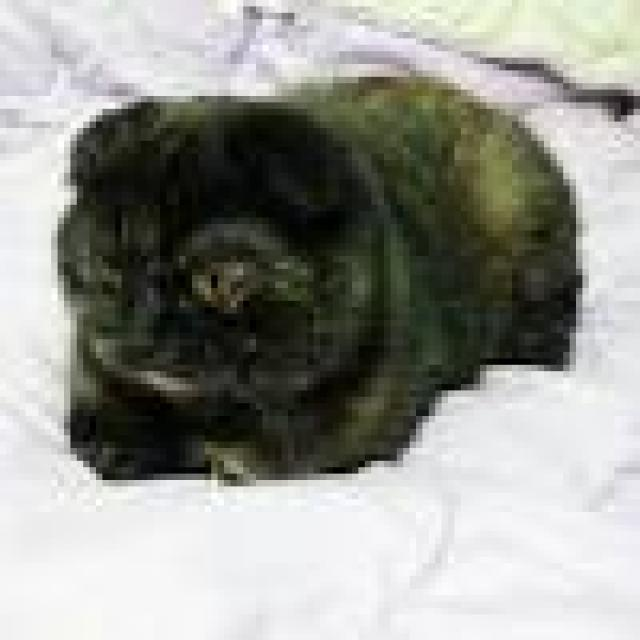cat-face: (28, 51, 432, 482)
